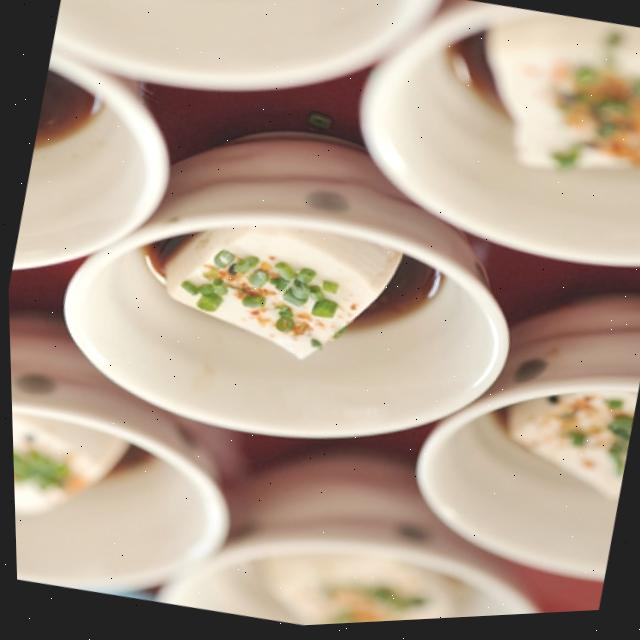豆腐料理: (38, 112, 530, 505)
